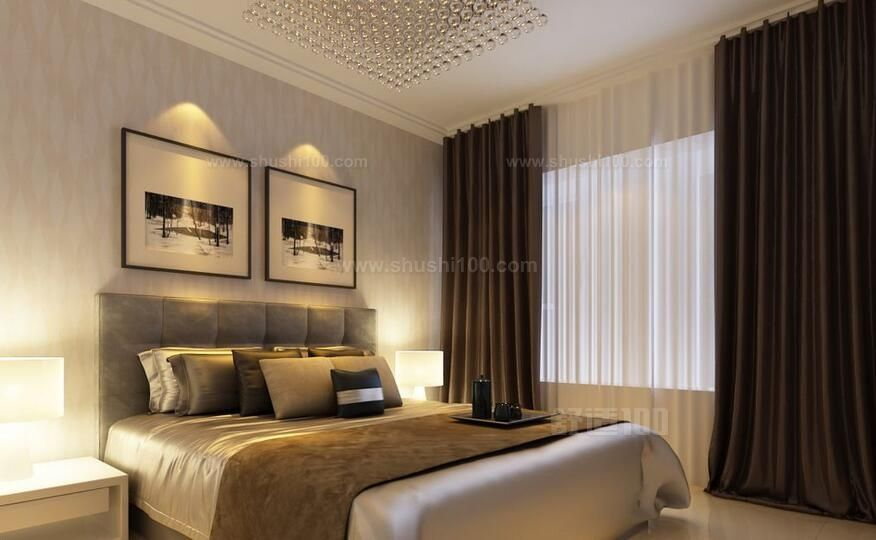床: (73, 404, 703, 538)
枕头: (146, 343, 386, 419)
灯: (240, 3, 554, 85), (0, 352, 67, 486), (397, 349, 449, 407)
